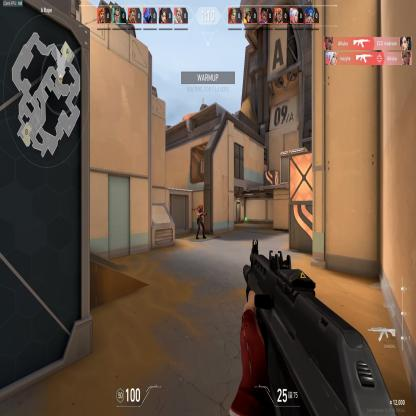enemy: (196, 204, 207, 240)
